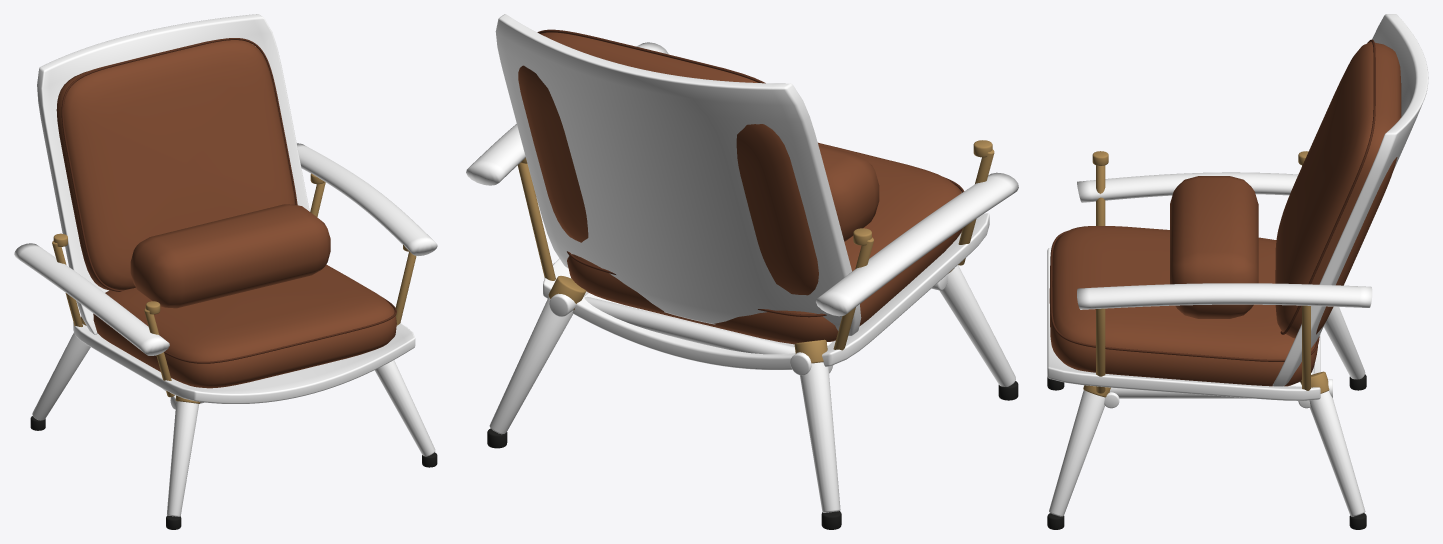
Rendered from asset.glb.
3 renders of one model, left to right at view 1: azimuth 30°, elevation 25°; view 2: azimuth 150°, elevation 25°; view 3: azimuth 270°, elevation 25°, orthographic. The views are drawn at different scales.
Visible parts, largest first — view 1: back_cushion, seat_cushion, lumbar_cushion, timber_back, timber_seat, arm_left, arm_right, leg_front_left, leg_front_right, leg_rear_left, back_cushion_piping, seat_cushion_piping (+2 smaller); view 2: timber_back, back_cushion, seat_cushion, timber_seat, arm_left, lumbar_cushion, leg_rear_left, cross_brace_rear, leg_rear_right, leg_front_left, arm_right, arm_support_rear_right (+3 smaller); view 3: seat_cushion, back_cushion, lumbar_cushion, timber_back, arm_right, timber_seat, arm_left, leg_front_right, leg_rear_right, leg_rear_left, seat_cushion_piping, underframe_right (+4 smaller).
Part boxes in pixels (<box>): back_cushion: <box>56,39,295,291</box>; seat_cushion: <box>93,264,396,388</box>; lumbar_cushion: <box>130,204,330,308</box>; timber_back: <box>37,14,309,334</box>; timber_seat: <box>73,322,415,403</box>; arm_left: <box>14,243,169,355</box>; arm_right: <box>297,143,437,255</box>; leg_front_left: <box>167,401,198,516</box>; leg_front_right: <box>374,360,435,456</box>; leg_rear_left: <box>32,332,90,420</box>; back_cushion_piping: <box>61,38,297,291</box>; seat_cushion_piping: <box>164,297,396,363</box>; timber_back: <box>495,14,861,335</box>; back_cushion: <box>518,32,818,295</box>; seat_cushion: <box>567,142,962,344</box>; timber_seat: <box>543,213,989,369</box>; arm_left: <box>816,172,1018,316</box>; lumbar_cushion: <box>818,145,879,241</box>; leg_rear_left: <box>800,362,840,512</box>; cross_brace_rear: <box>584,296,833,373</box>; leg_rear_right: <box>489,297,573,434</box>; leg_front_left: <box>939,265,1015,386</box>; arm_right: <box>466,42,668,185</box>; arm_support_rear_right: <box>517,162,555,280</box>; seat_cushion: <box>1049,226,1317,386</box>; back_cushion: <box>1275,42,1401,338</box>; lumbar_cushion: <box>1170,176,1258,318</box>; timber_back: <box>1272,14,1428,386</box>; arm_right: <box>1077,283,1372,309</box>; timber_seat: <box>1047,247,1320,400</box>; arm_left: <box>1077,172,1298,202</box>; leg_front_right: <box>1049,390,1104,516</box>; leg_rear_right: <box>1309,391,1365,516</box>; leg_rear_left: <box>1324,306,1365,379</box>; seat_cushion_piping: <box>1050,230,1319,361</box>; underframe_right: <box>1109,379,1332,398</box>.
Bounding box in the file's own units: 1.09 × 1.19 × 1.07.
